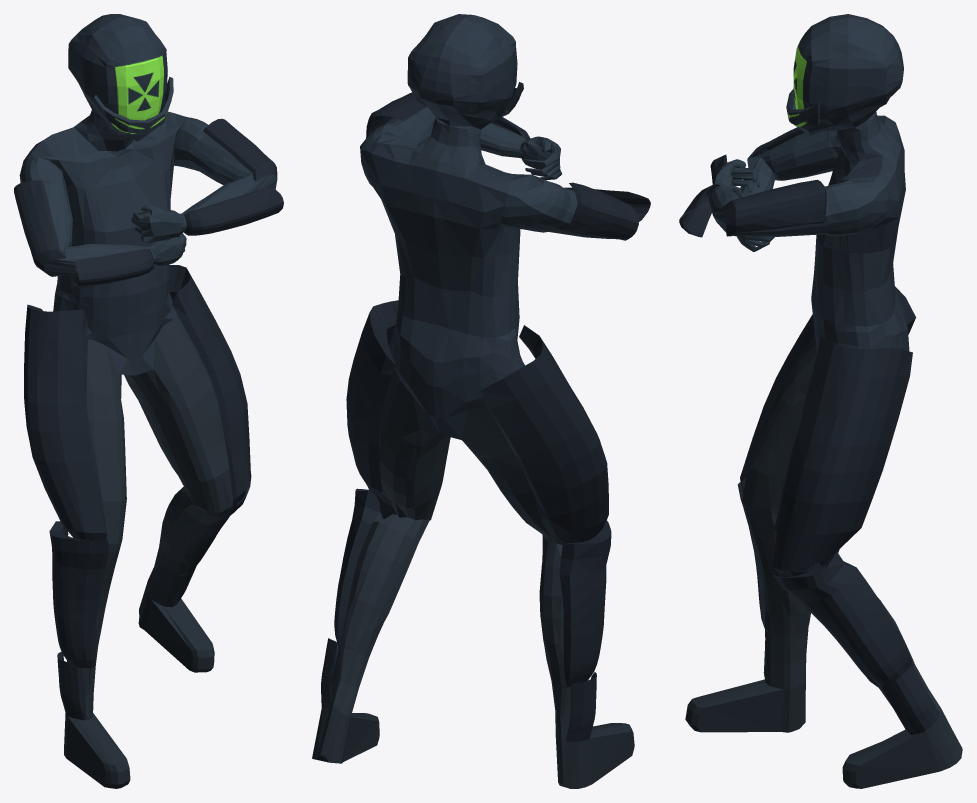
Rendered from Bastion_WF_000010.obj.
3 renders of one model, left to right at view 1: azimuth 30°, elevation 25°; view 2: azimuth 150°, elevation 25°; view 3: azimuth 270°, elevation 25°, orthographic. The views are drawn at different scales.
Parts seen in each view (by area): view 1: Cube.002; view 2: Cube.002; view 3: Cube.002.
Part boxes in pixels (<box>): Cube.002: <box>14,14,283,788</box>; Cube.002: <box>312,14,650,788</box>; Cube.002: <box>679,14,962,788</box>.
Size of the model in its own units: 1.34 by 3.79 by 1.3.
